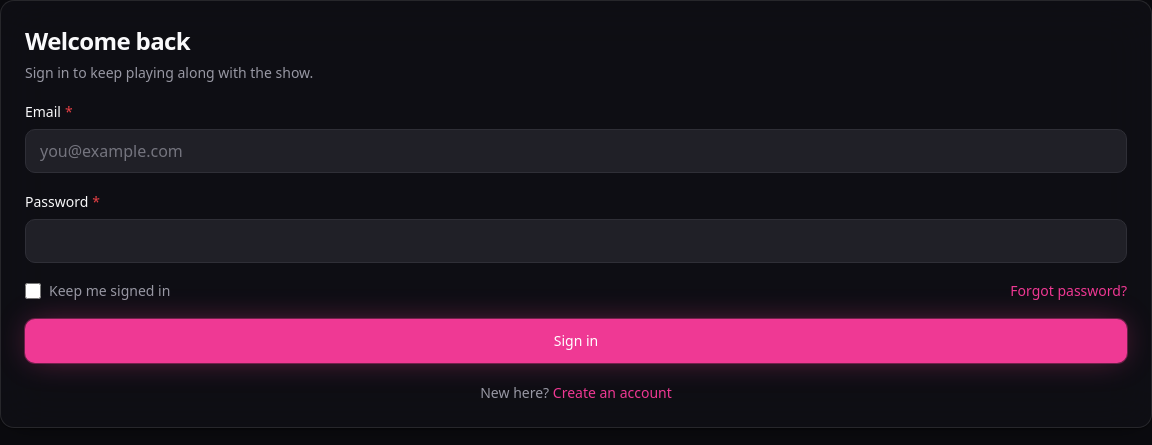
Scenario: form feedback › disables the submit button while the request is in flight
Type "viewer1@reality.local" into the field labelled "Email*". click: x=576, y=151
box: [25,129,1127,173]
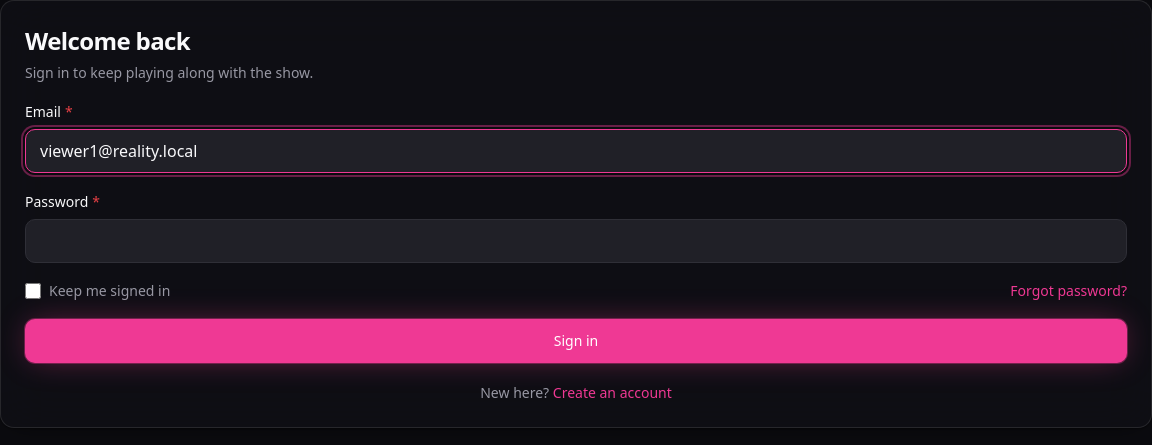
Type "DemoPass!2026" into the password field labelled "Password*". click: x=576, y=241
box: [25,219,1127,263]
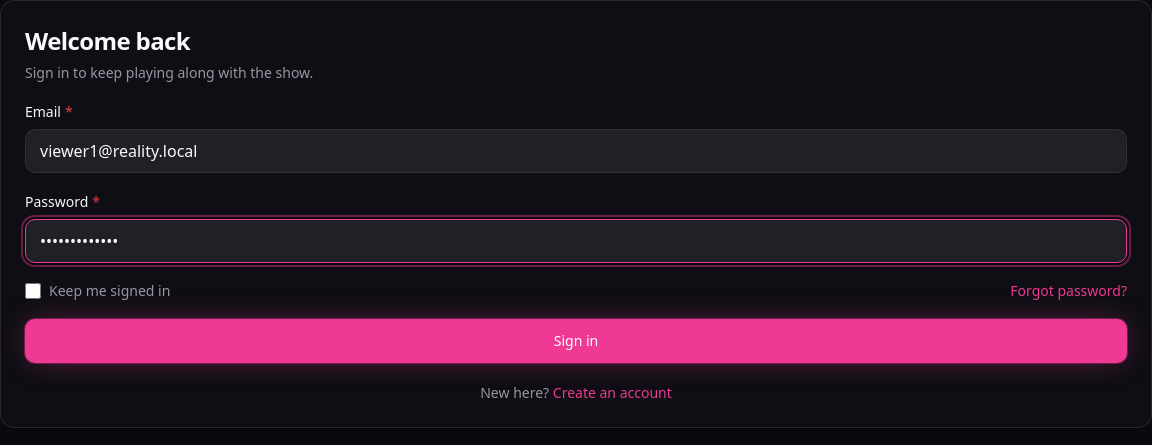
Click the button "Sign in". click: x=576, y=341
box: [25,319,1127,363]
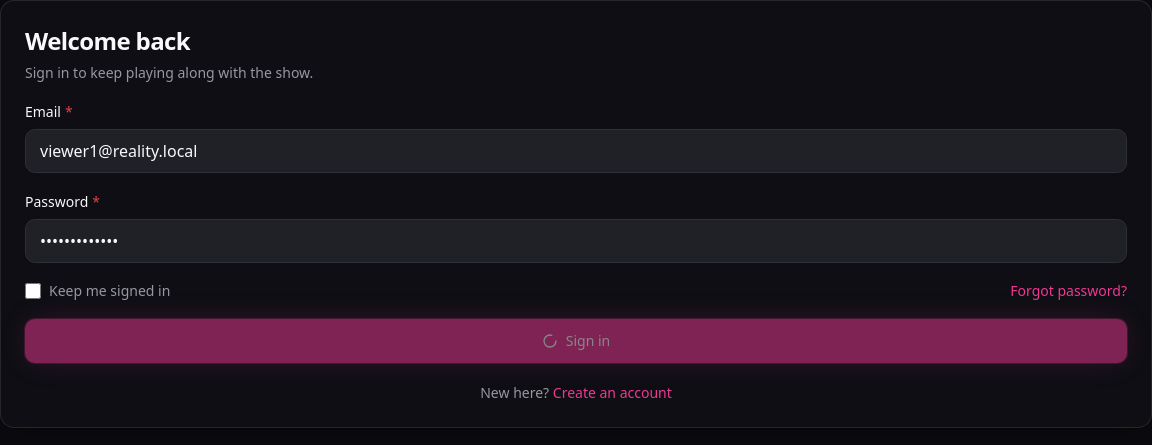
Check: the button "Sign in" is disabled, box [25,319,1127,363]
